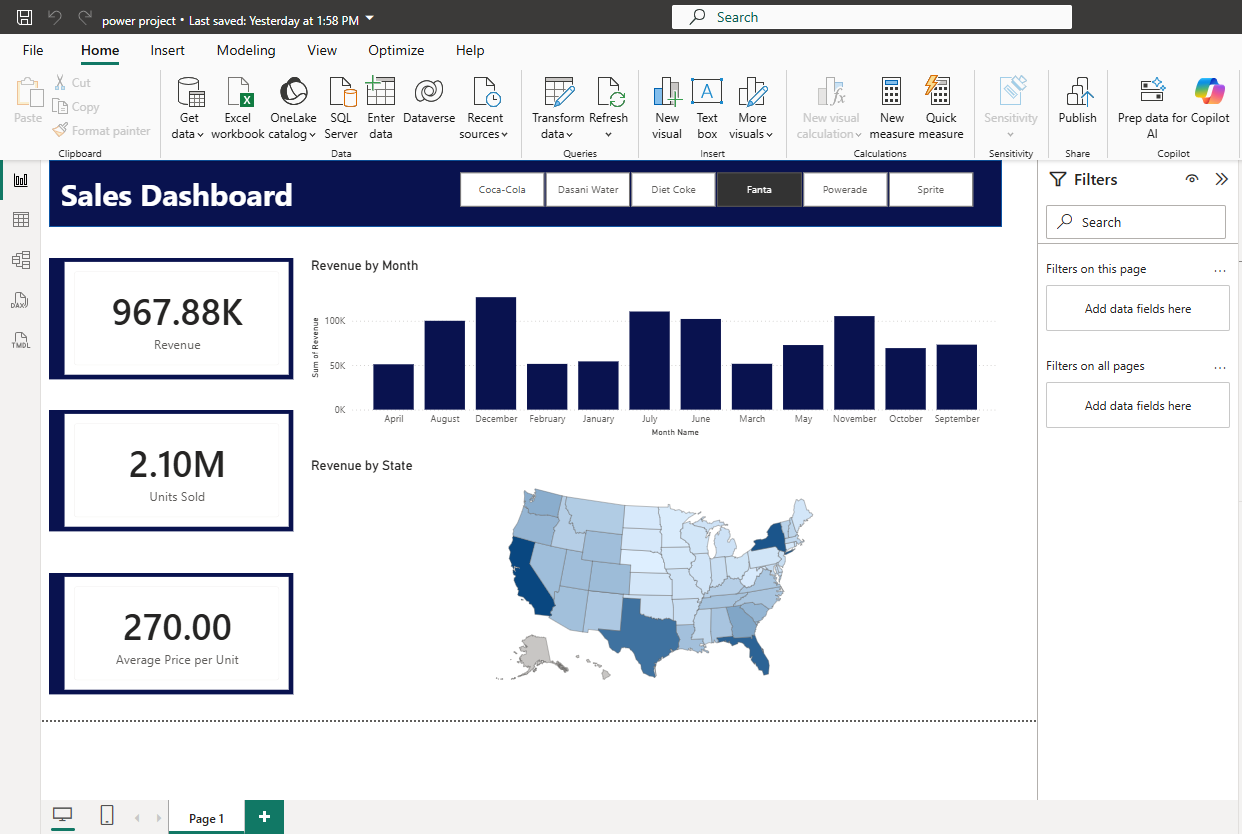

The page's visual inventory and layout, read from the dashboard file:
{"tool":"powerbi","page":{"name":"Page 1","canvas":[1280,720],"ordinal":0},"visuals":[{"type":"shape","box":[10.3,0,1224.7,86.1],"z":0},{"type":"cardVisual","fields":{"Data":["Sum(Data.Revenue)"]},"box":[10.3,125.9,313.6,155.5],"z":1000},{"type":"cardVisual","fields":{"Data":["Sum(Data.Units Sold)"]},"box":[10.3,321.3,313.6,155.5],"z":2000},{"type":"cardVisual","fields":{"Data":["Sum(Data.Price per Unit)"]},"box":[10.3,530.8,313.6,155.5],"z":3000},{"type":"columnChart","title":"Revenue by Month ","fields":{"Y":["Sum(Data.Revenue)"],"Category":["Data.Month Name"]},"box":[341.8,125.9,893.2,233.9],"z":4000},{"type":"shapeMap","title":"Revenue by State","fields":{"Value":["Sum(Data.Revenue)"],"Category":["Data.State"]},"box":[341.8,383,893.2,303.3],"z":5000},{"type":"slicer","fields":{"Values":["Data.Beverage Brand"]},"box":[512.5,8.8,708.8,57.5],"z":6000}]}

Visuals, with their boxes on the page's 1280x720 design canvas (x1, y1, x2, y2). These are canvas units, not pixel positions in the 1242x834 screenshot, which may show the page scaled, cropped or inside an application window:
shape: locate(10, 0, 1235, 86)
cardVisual - Sum(Data.Revenue): locate(10, 126, 324, 281)
cardVisual - Sum(Data.Units Sold): locate(10, 321, 324, 477)
cardVisual - Sum(Data.Price per Unit): locate(10, 531, 324, 686)
"Revenue by Month " columnChart: locate(342, 126, 1235, 360)
"Revenue by State" shapeMap: locate(342, 383, 1235, 686)
slicer - Data.Beverage Brand: locate(512, 9, 1221, 66)
